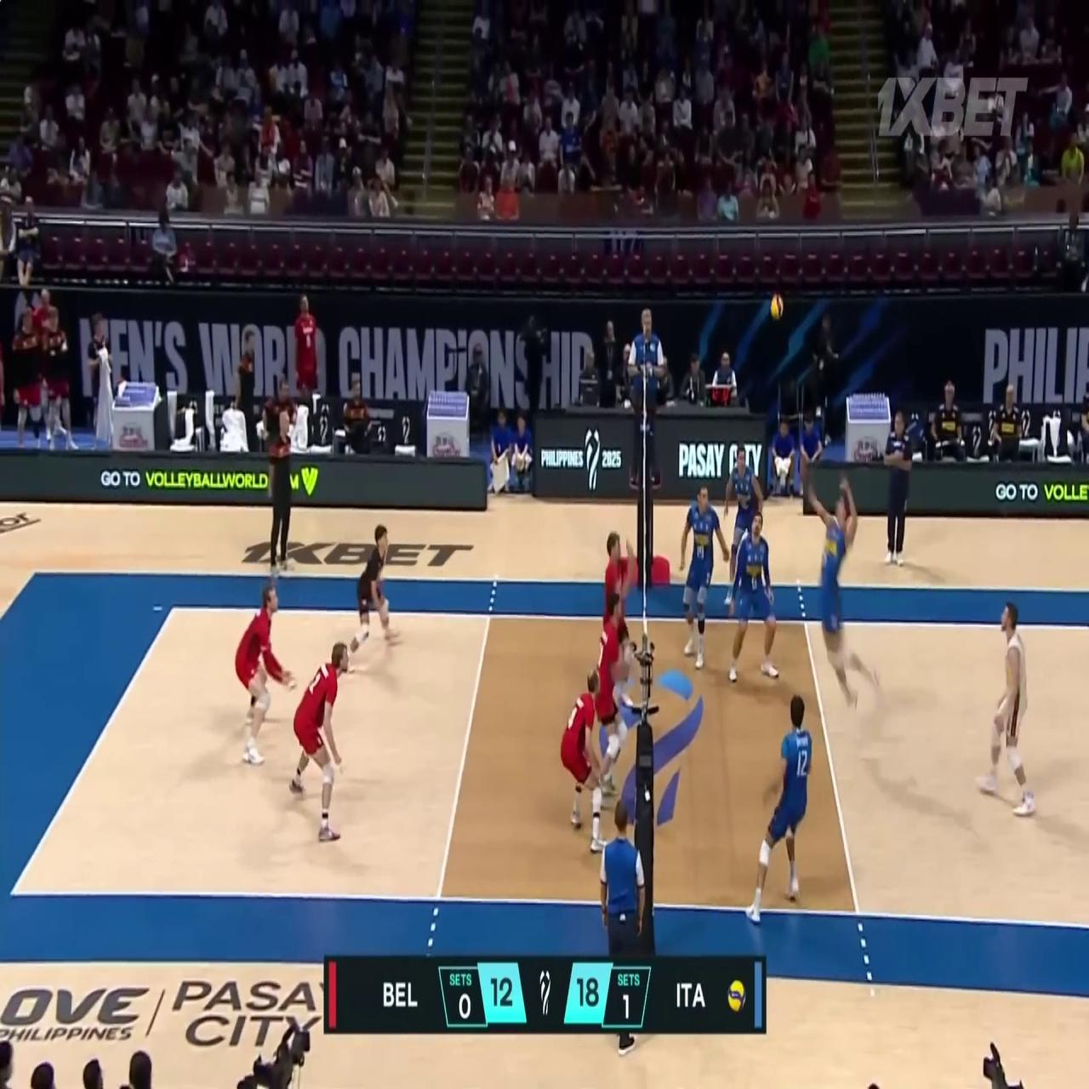ball: (770, 295, 784, 320)
